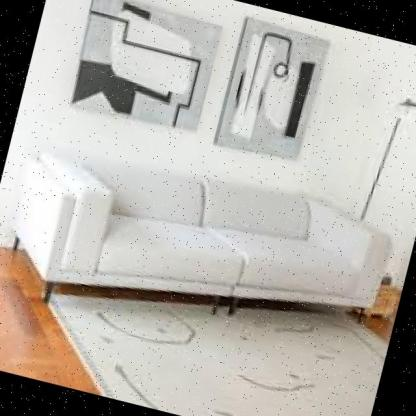Sofa: (0, 101, 410, 387)
